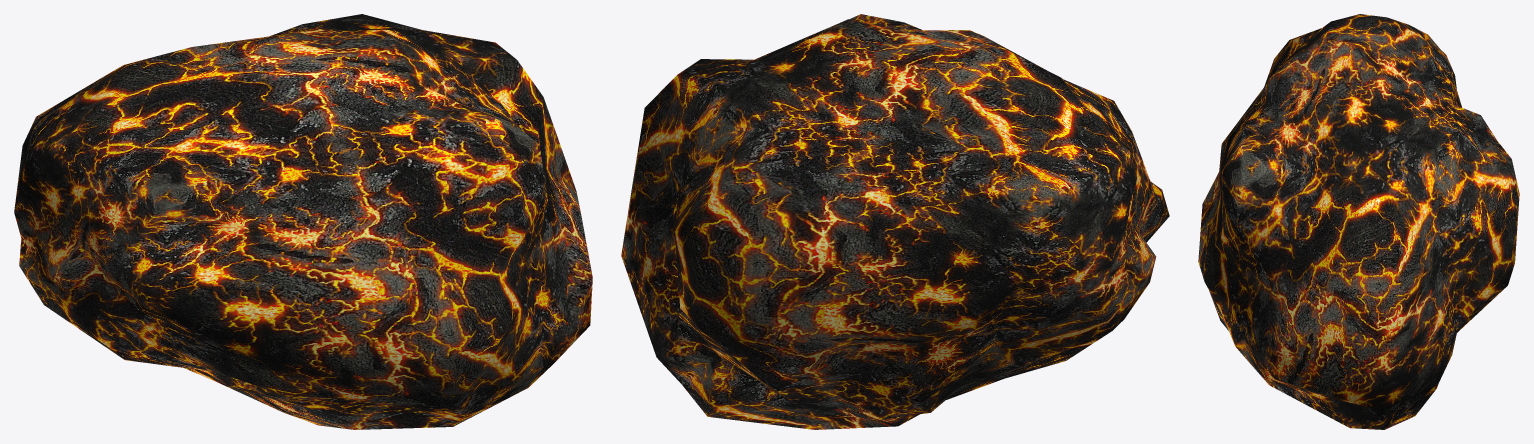
File: asteroid_moltenrock_large_s01_l1.fbx
3 renders of one model, left to right at view 1: azimuth 30°, elevation 25°; view 2: azimuth 150°, elevation 25°; view 3: azimuth 270°, elevation 25°, orthographic. The views are drawn at different scales.
Visible parts, largest first — view 1: mesh_node; view 2: mesh_node; view 3: mesh_node.
Boxes of the visible parts, box(x1,y1,x2,y2) form: mesh_node: box(14, 14, 592, 429); mesh_node: box(621, 14, 1169, 429); mesh_node: box(1198, 14, 1519, 429).
Size of the model in its own units: 142 by 107 by 102.
